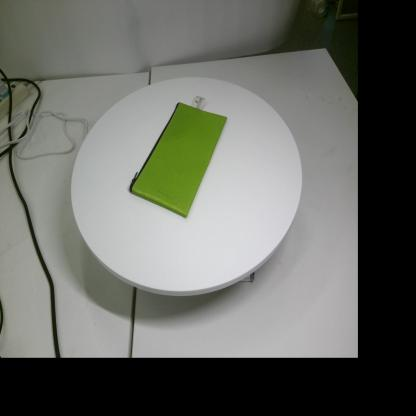Stationery: (129, 96, 228, 218)
